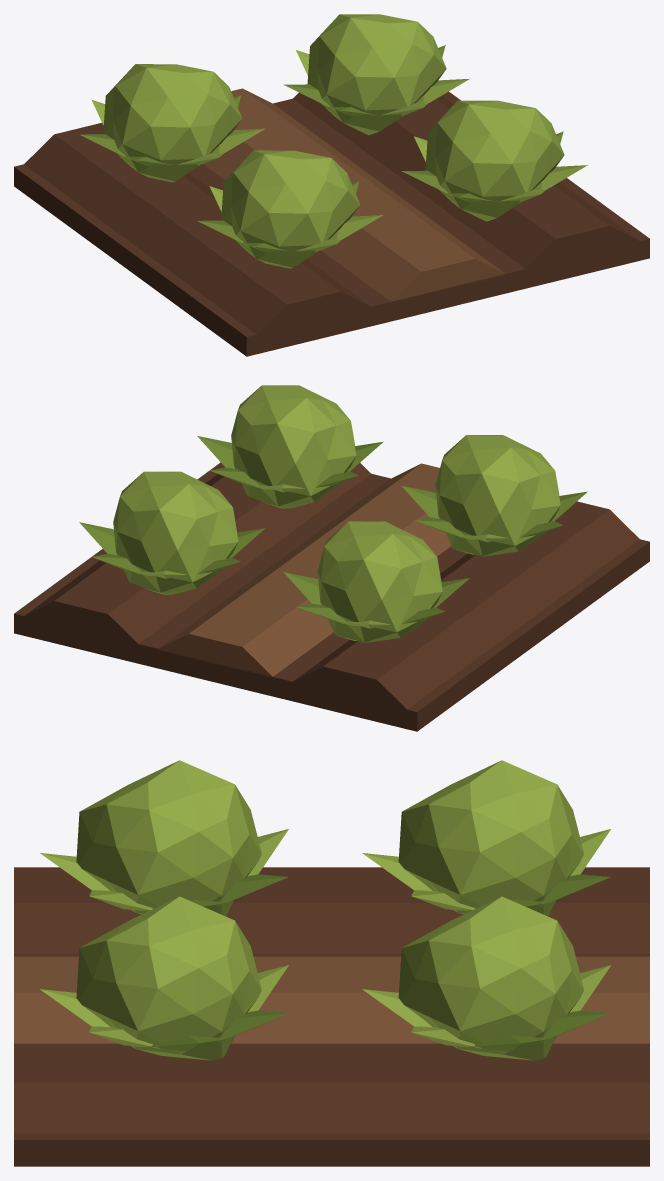
Rendered from 50_cabbage_patch.fbx.
3 views of the same model, one above another, from view 1: azimuth 30°, elevation 25°; view 2: azimuth 150°, elevation 25°; view 3: azimuth 270°, elevation 25° (orthographic). The views are drawn at different scales.
Visible parts, largest first — view 1: 50_cabbage_patch; view 2: 50_cabbage_patch; view 3: 50_cabbage_patch.
Part boxes in pixels (bbox=[...]): 50_cabbage_patch: bbox=[14, 14, 649, 356]; 50_cabbage_patch: bbox=[14, 385, 649, 731]; 50_cabbage_patch: bbox=[14, 760, 649, 1166].
Size of the model in its own units: 1.5 by 0.4944 by 1.5.
Materials: 1 (1 with a texture image).
